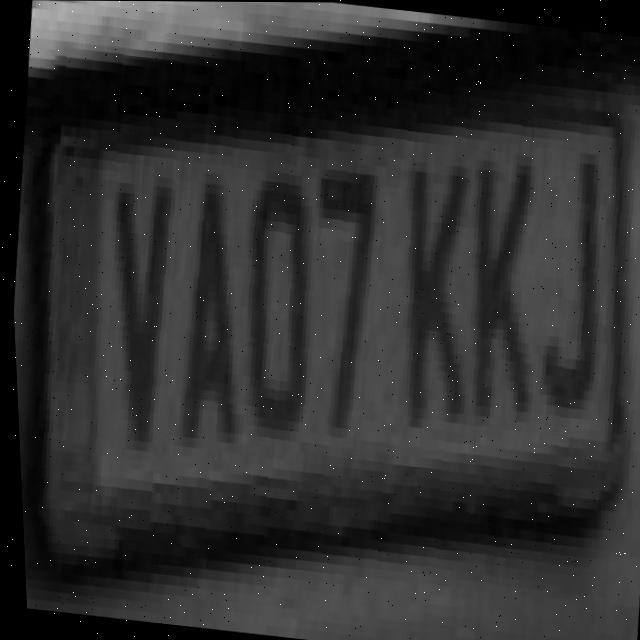LicensePlate: (2, 46, 640, 596)
